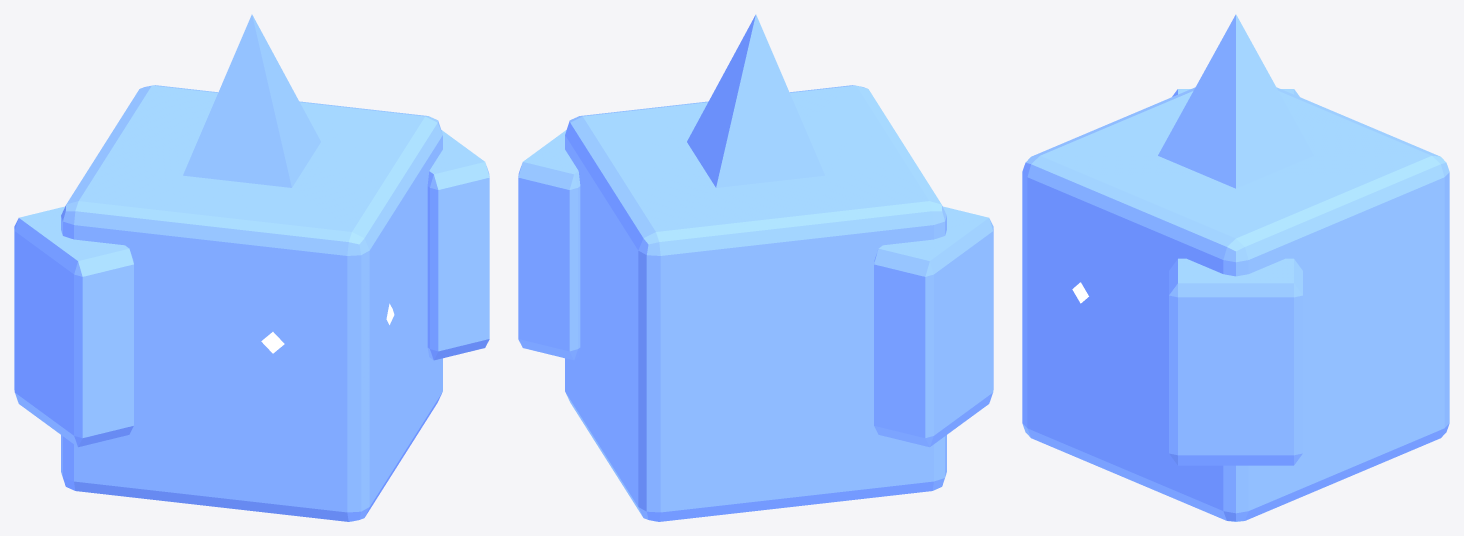
File: rogue_process.glb
3 views of the same model, side by side, from view 1: azimuth 30°, elevation 25°; view 2: azimuth 150°, elevation 25°; view 3: azimuth 270°, elevation 25° (orthographic). The views are drawn at different scales.
Parts seen in each view (by area): view 1: RPBody, Blade_-0.45, TopSpike, Blade_0.45; view 2: RPBody, Blade_-0.45, TopSpike, Blade_0.45; view 3: RPBody, Blade_0.45, TopSpike.
Boxes of the visible parts, x1,y1,x2,y2 form: RPBody: (61,85,442,521); Blade_-0.45: (14,206,133,447); TopSpike: (183,14,320,187); Blade_0.45: (427,130,489,360); RPBody: (565,85,946,521); Blade_-0.45: (874,206,993,447); TopSpike: (687,14,824,187); Blade_0.45: (518,130,580,360); RPBody: (1022,87,1449,521); Blade_0.45: (1169,258,1302,465); TopSpike: (1158,14,1313,188).
Bounding box in the file's own units: 1.05 × 1.05 × 0.9568.
